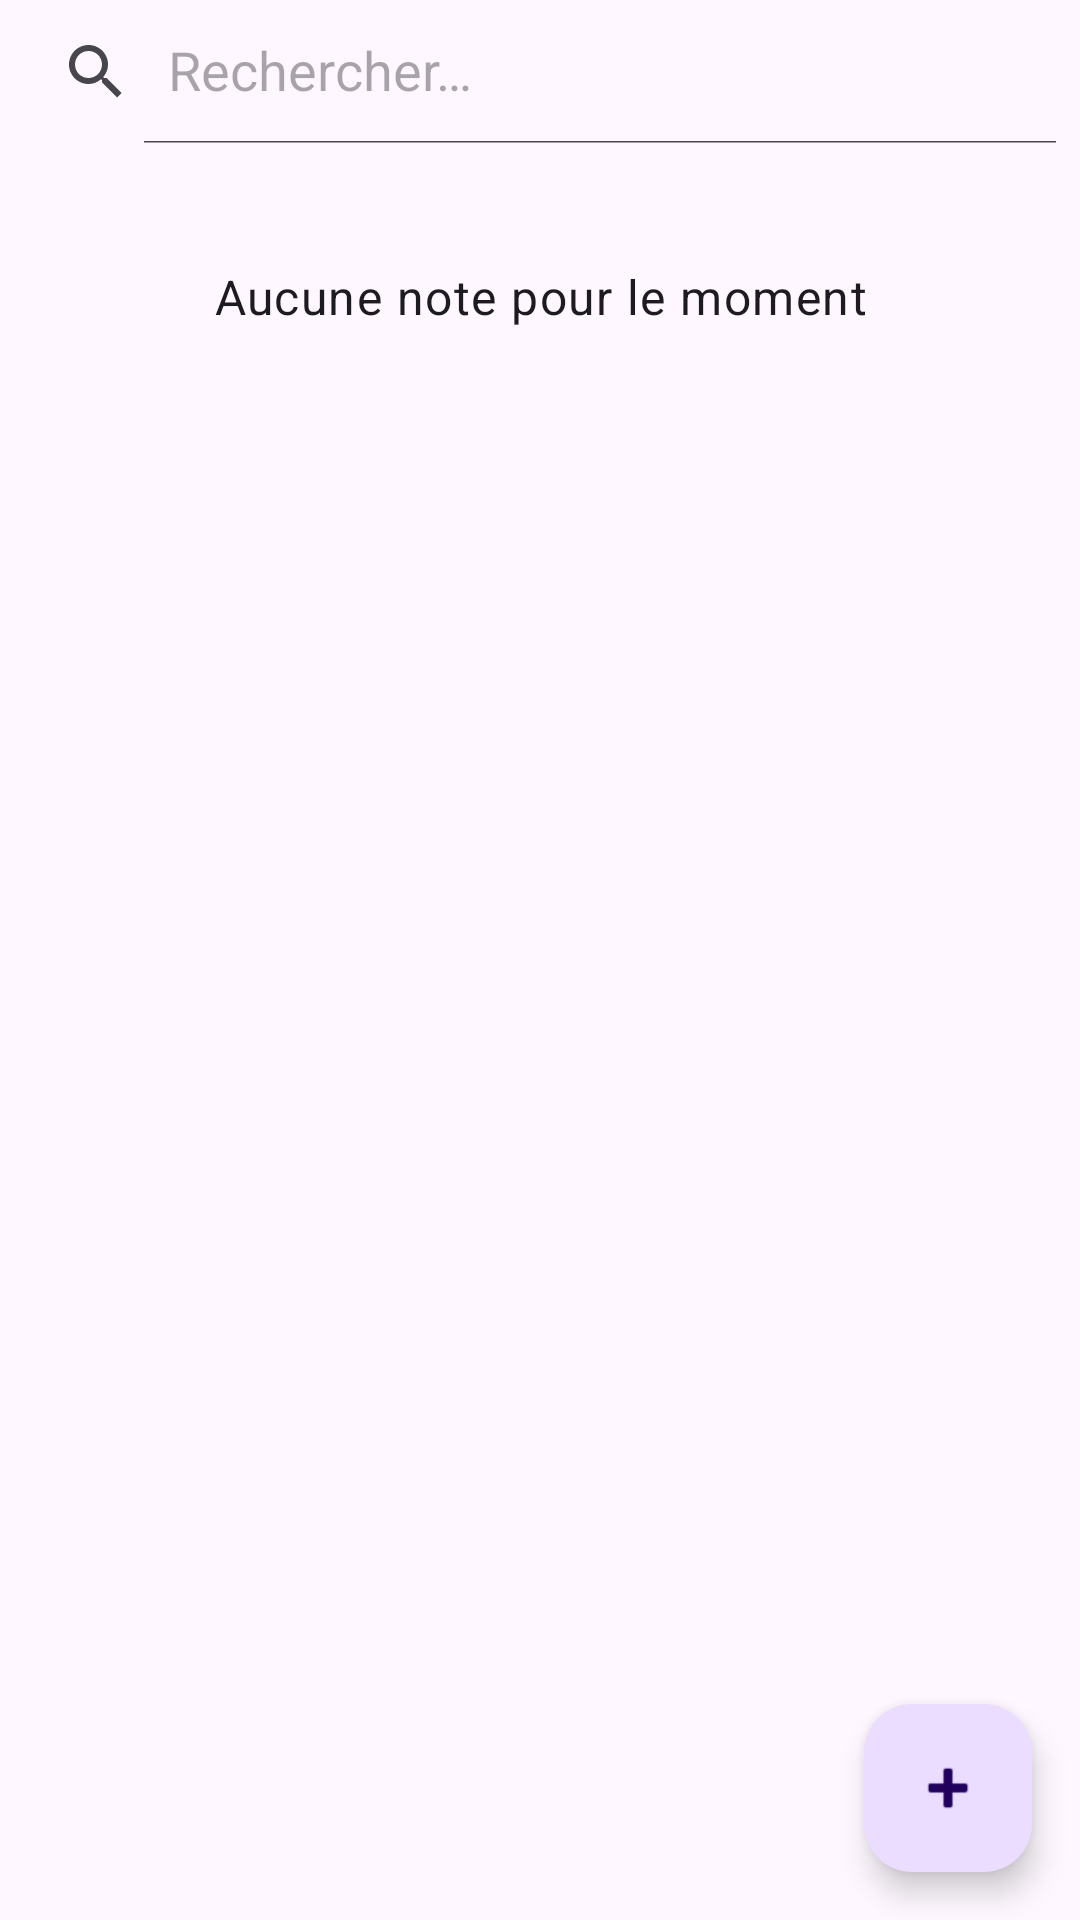

Where icons sit on this 1080px x 1920px app screen, as [left=x1, top=y1, right=x2, bottom=y2]:
Ajouter une note: [left=864, top=1704, right=1032, bottom=1872]
